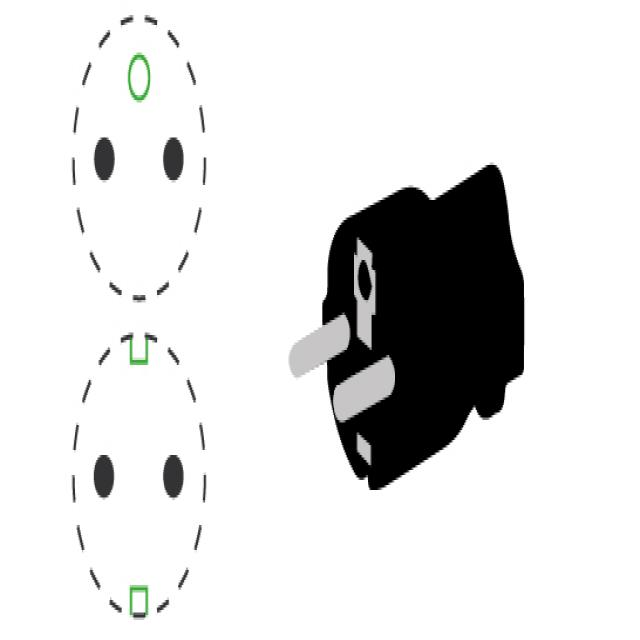typeb: (59, 324, 213, 624)
